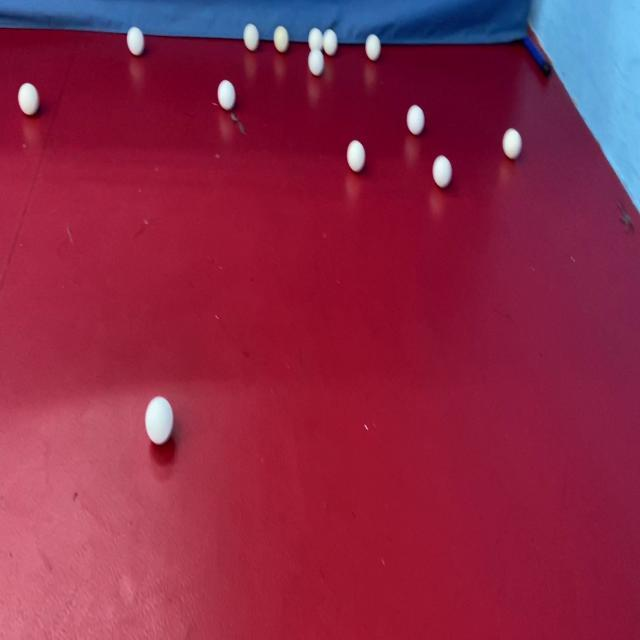ping-pong-ball: (140, 387, 180, 459), (212, 66, 240, 125), (427, 146, 457, 200), (121, 16, 149, 66), (13, 74, 42, 122), (498, 118, 528, 164), (344, 130, 369, 182), (402, 98, 428, 142), (358, 28, 386, 66), (238, 18, 262, 54), (304, 43, 328, 78), (270, 23, 292, 56), (306, 21, 324, 53), (323, 24, 340, 56)
